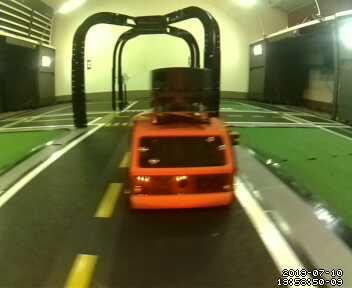pheeno: (126, 65, 239, 212)
